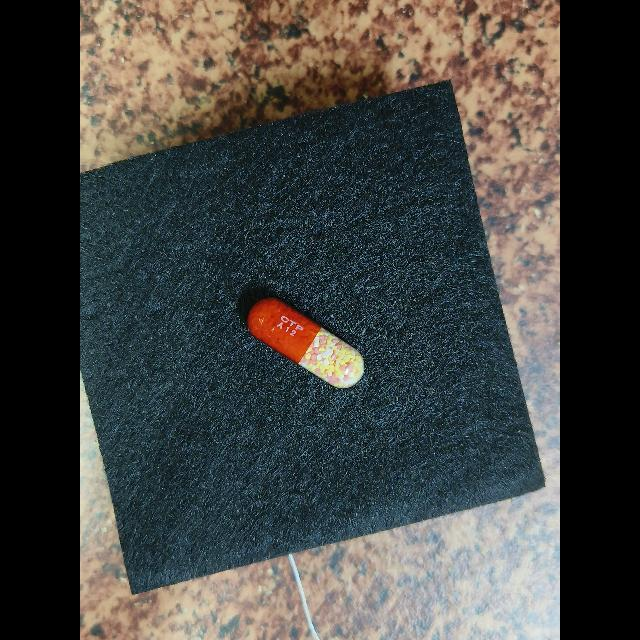Intact Capsule: (247, 297, 364, 388)
